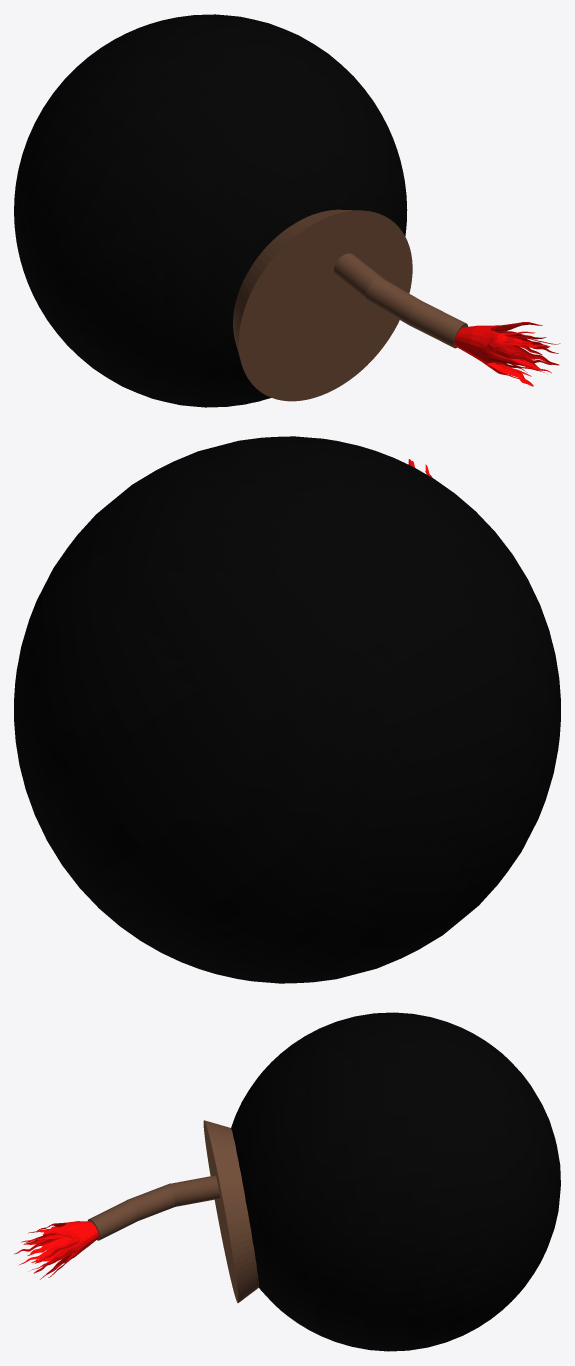
Rendered from newbomb.obj.
The picture shows the model from 3 angles, top to bottom: view 1: azimuth 30°, elevation 25°; view 2: azimuth 150°, elevation 25°; view 3: azimuth 270°, elevation 25°; orthographic projection. The views are drawn at different scales.
Parts seen in each view (by area): view 1: bomb:Mesh; view 2: bomb:Mesh; view 3: bomb:Mesh.
Part boxes in pixels (box(x1,y1,x2,y2)): bomb:Mesh: box(14, 14, 560, 407); bomb:Mesh: box(14, 436, 560, 983); bomb:Mesh: box(14, 1012, 560, 1351).
Bounding box in the file's own units: 364 × 364 × 587.
